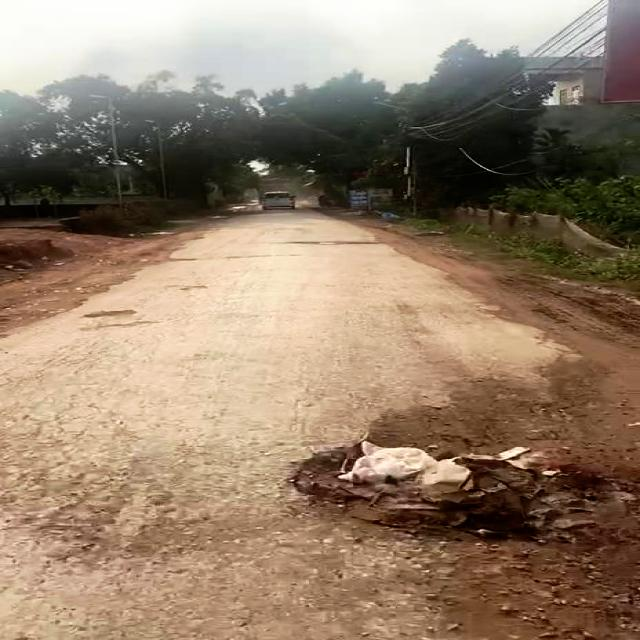pothole: (293, 440, 626, 550)
